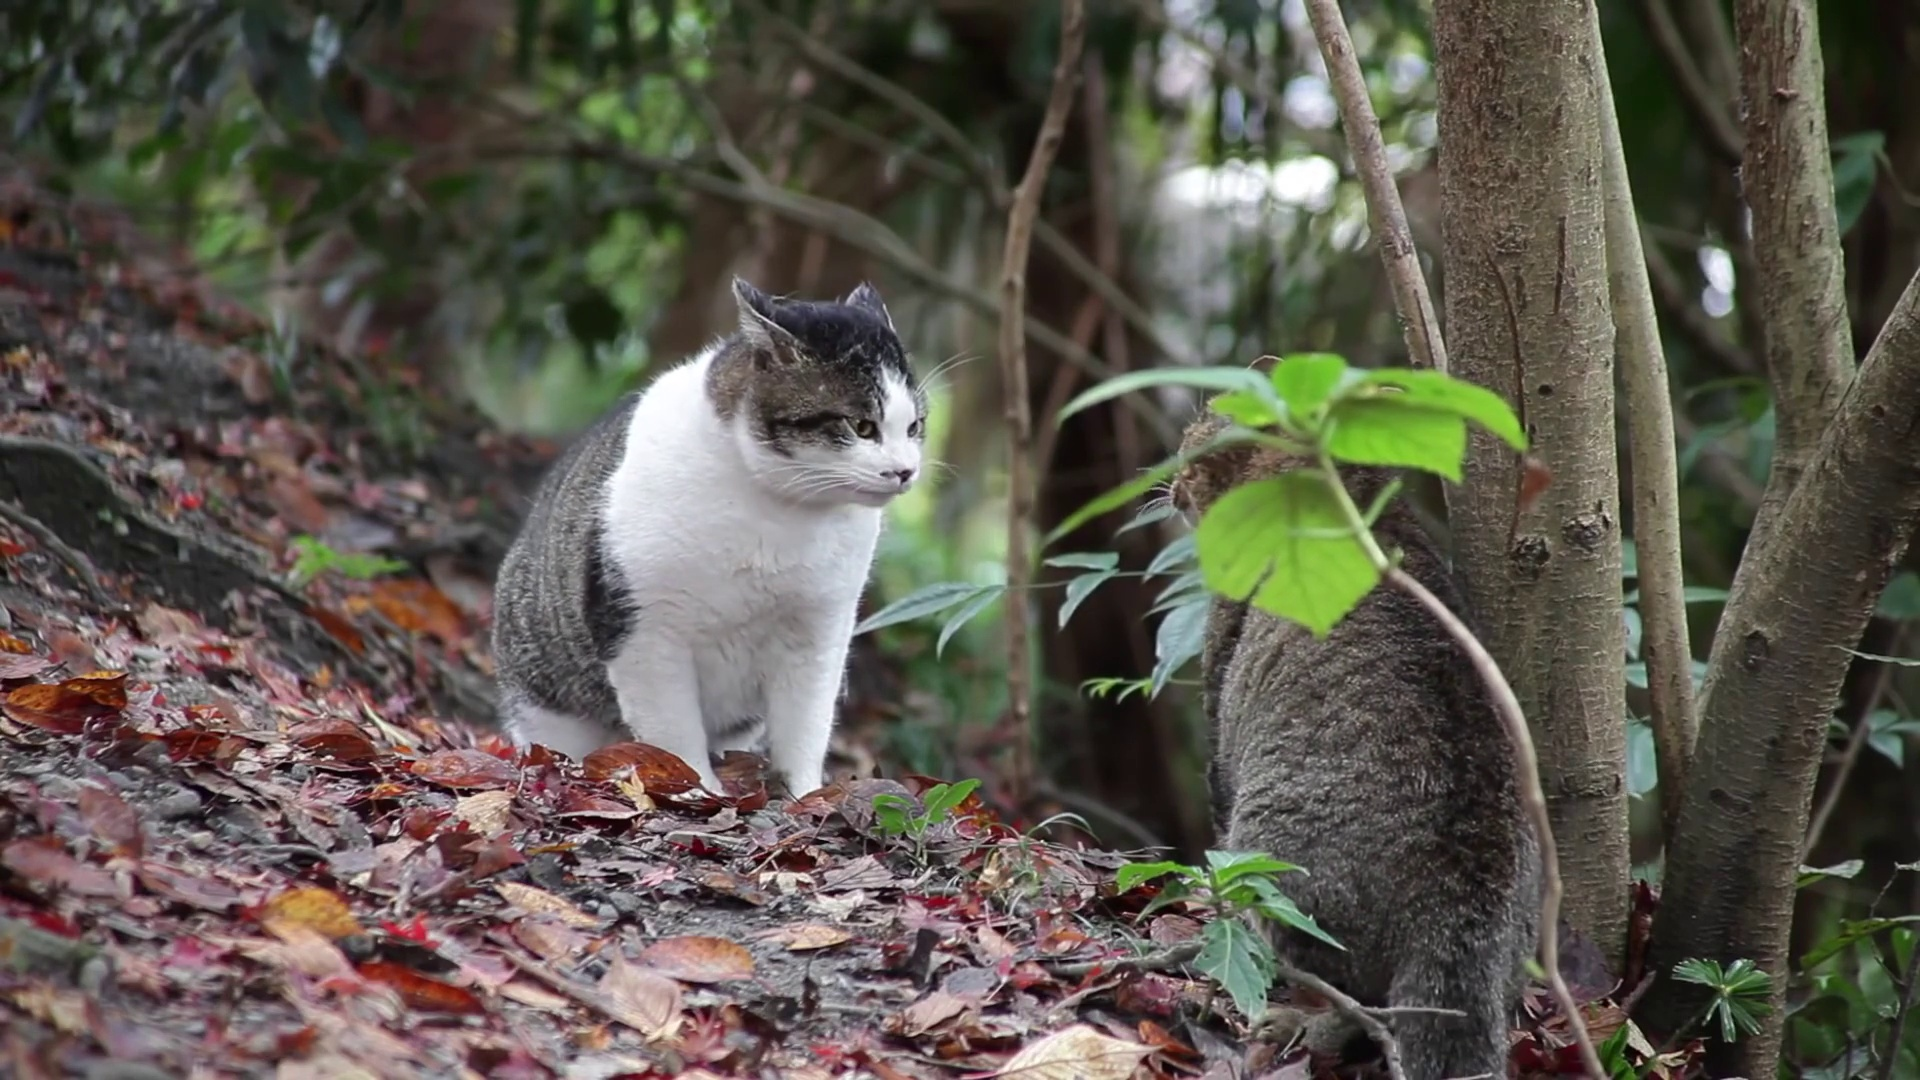black-white: (488, 274, 928, 812)
pure black: (1167, 353, 1542, 1080)
